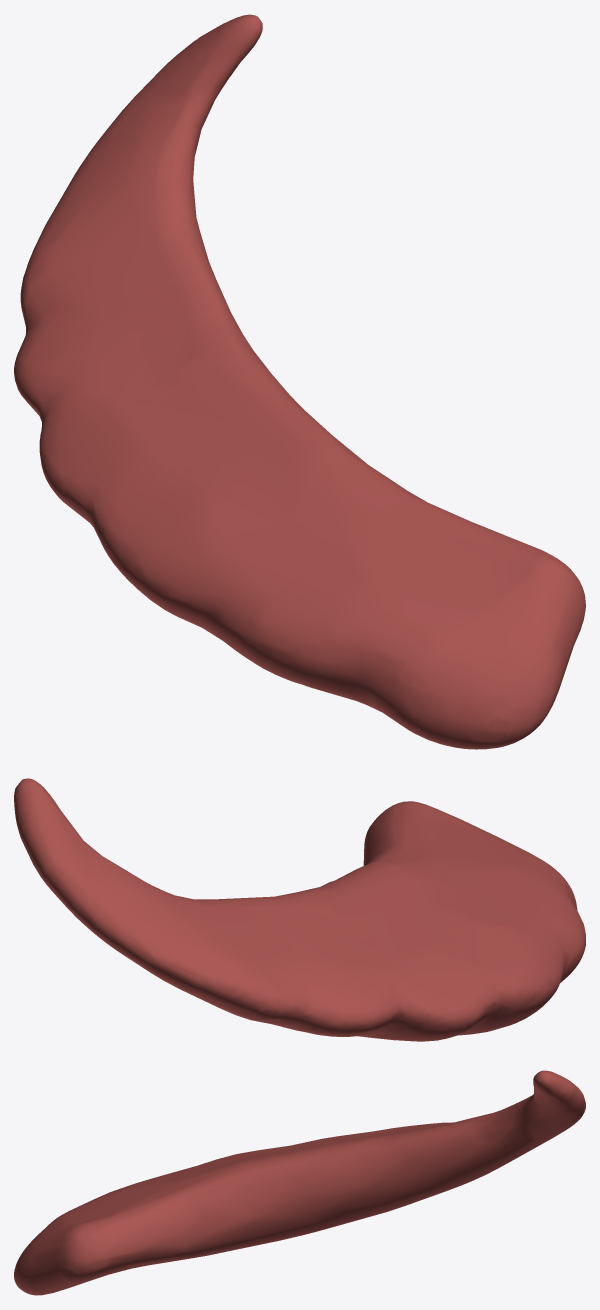
The model's file is FMA72713.glb.
The picture shows the model from 3 angles, top to bottom: view 1: azimuth 30°, elevation 25°; view 2: azimuth 150°, elevation 25°; view 3: azimuth 270°, elevation 25°; orthographic projection. The views are drawn at different scales.
Parts seen in each view (by area): view 1: FMA72713; view 2: FMA72713; view 3: FMA72713.
Part boxes in pixels (x1,y1,x2,y2): FMA72713: [14, 14, 585, 749]; FMA72713: [14, 778, 585, 1041]; FMA72713: [14, 1070, 585, 1295].
Bounding box in the file's own units: 0.0189 × 0.0208 × 0.0405.
